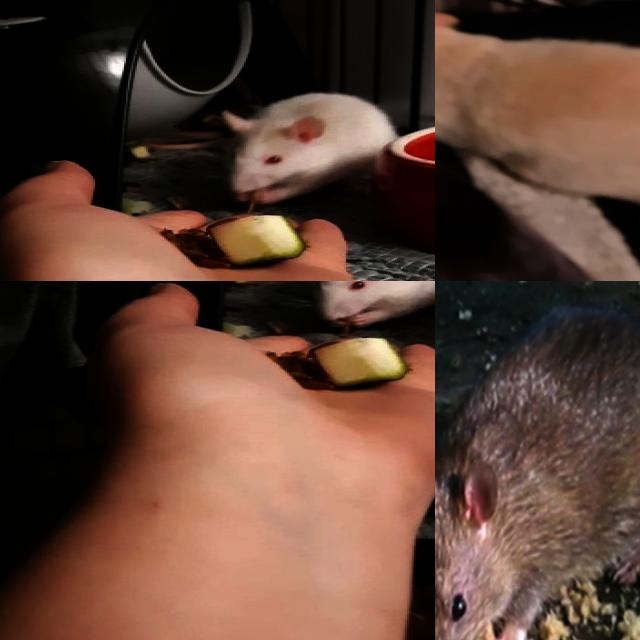rat: (435, 281, 640, 640), (435, 12, 640, 239), (223, 93, 398, 208), (295, 281, 435, 330)
